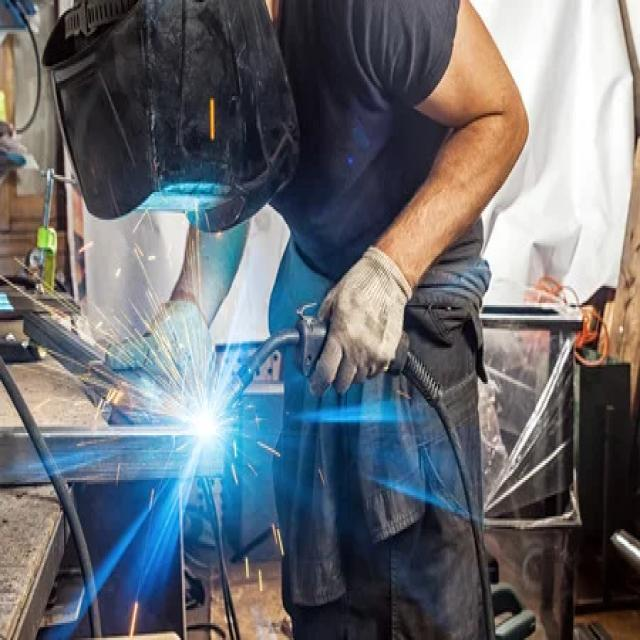with_helmet: (43, 0, 299, 231)
